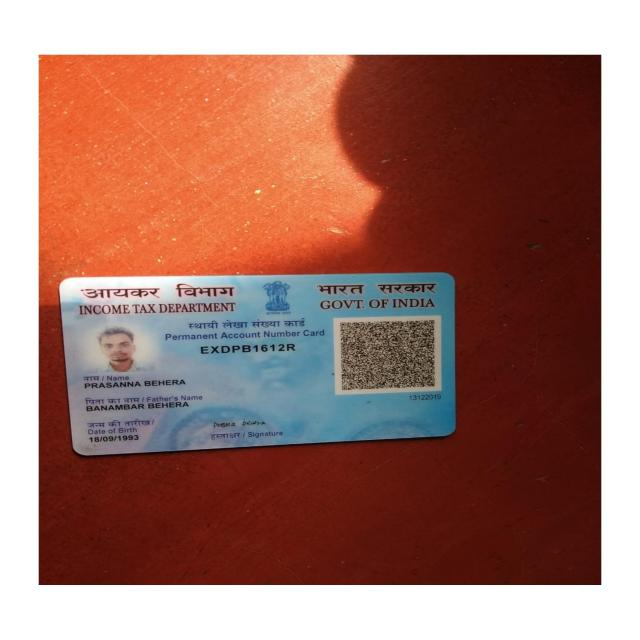pan_card: (54, 272, 458, 453)
